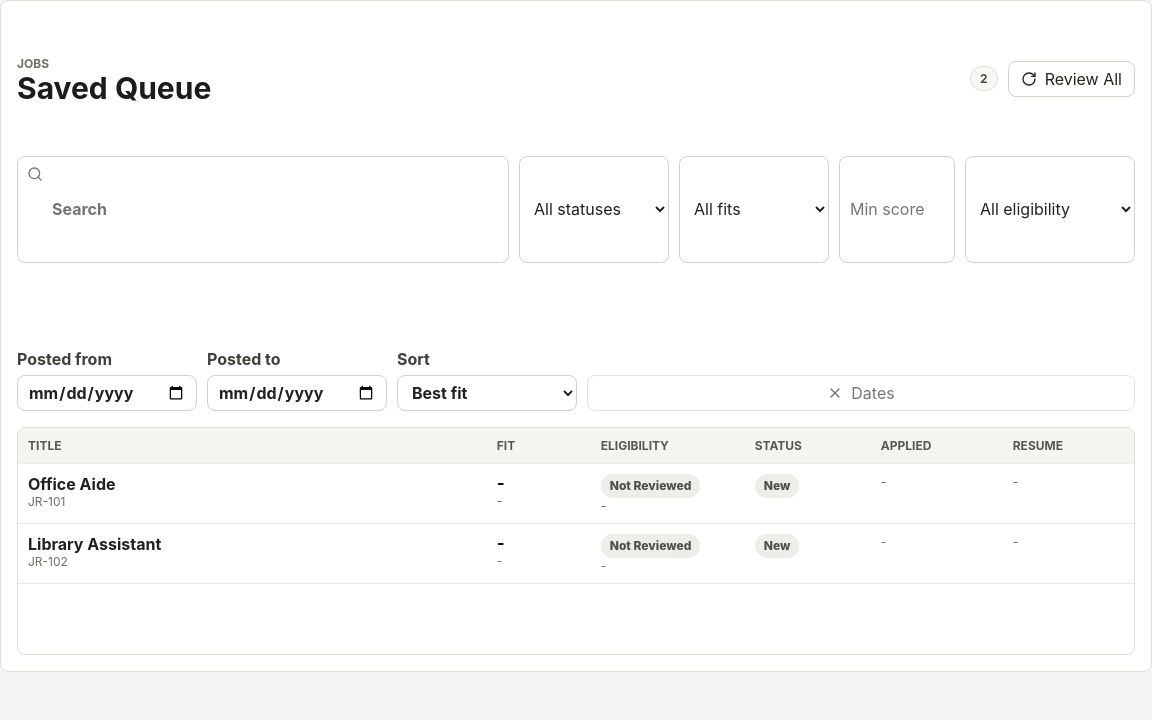
Test case: JobsPage selection › shows the selected job preview after the user chooses a job
expect the text "Library Assistant" is shown: met, box [28,534,161,554]
Click the text "Library Assistant": (576, 553) [18,523,1134,583]
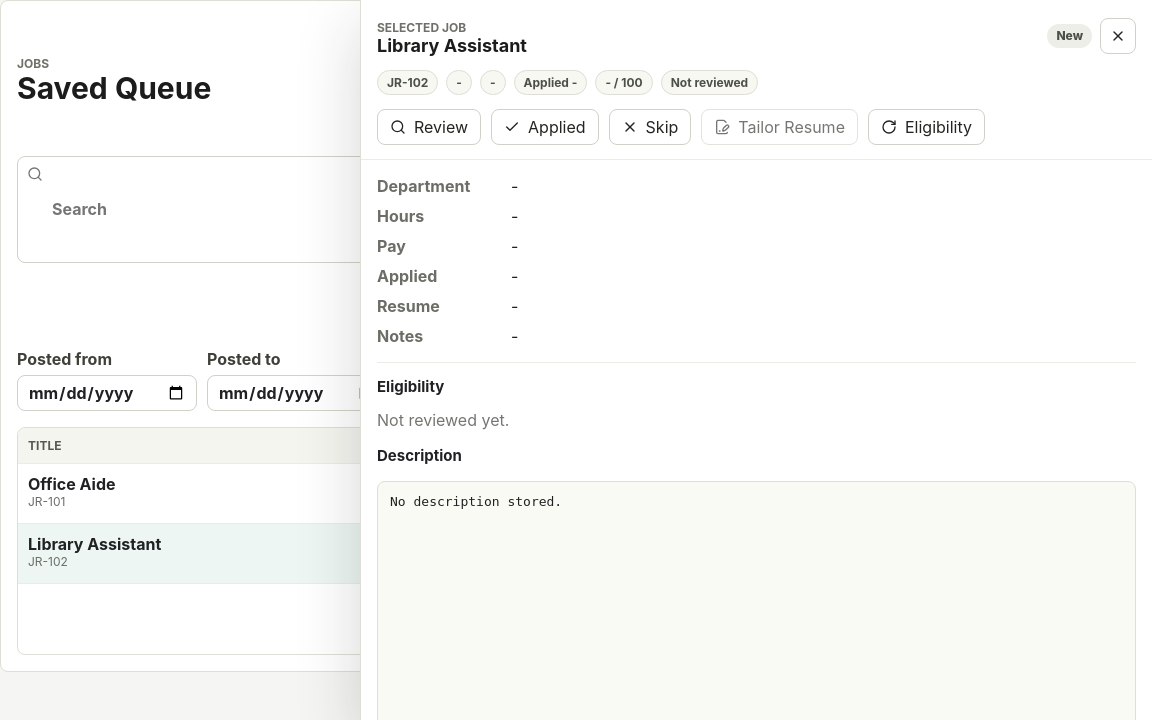
expect the element named "Selected job preview" is shown: met
expect the heading "Library Assistant" is shown: met, box [377,36,527,56]
